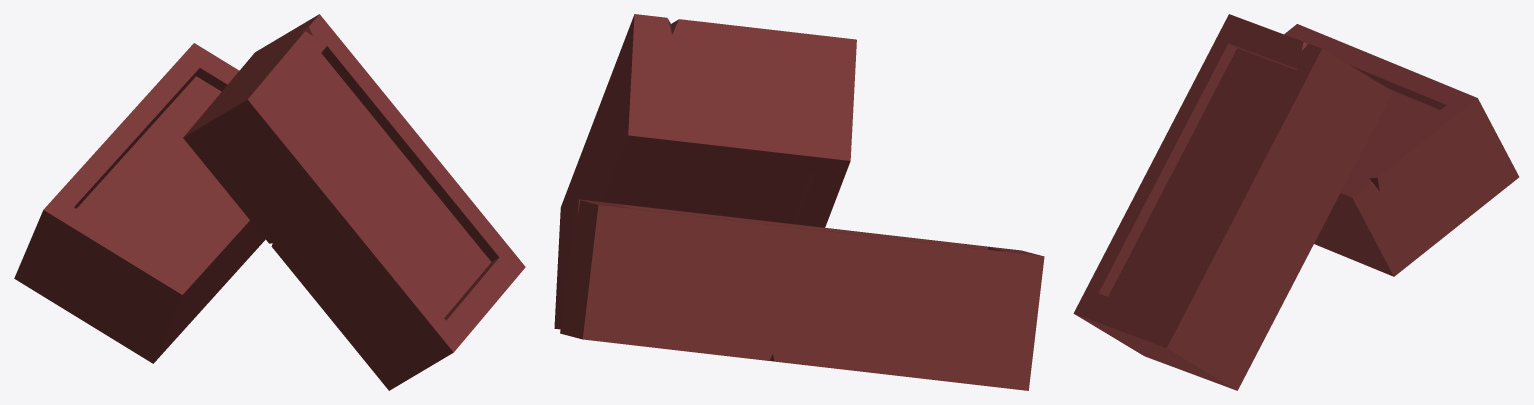
Rendered from brick.glb.
3 renders of one model, left to right at view 1: azimuth 30°, elevation 25°; view 2: azimuth 150°, elevation 25°; view 3: azimuth 270°, elevation 25°, orthographic. The views are drawn at different scales.
Parts seen in each view (by area): view 1: Cube.473, Cube.472; view 2: Cube.472, Cube.473; view 3: Cube.473, Cube.472.
Part boxes in pixels (left/top/right/bottom): Cube.473: left=183, top=14, right=525, bottom=390; Cube.472: left=14, top=43, right=265, bottom=363; Cube.472: left=560, top=199, right=1044, bottom=390; Cube.473: left=554, top=14, right=856, bottom=329; Cube.473: left=1073, top=14, right=1392, bottom=390; Cube.472: left=1284, top=24, right=1519, bottom=276.
Size of the model in its own units: 1.92 by 1.33 by 1.7.
Materials: 1 (1 with a texture image).
